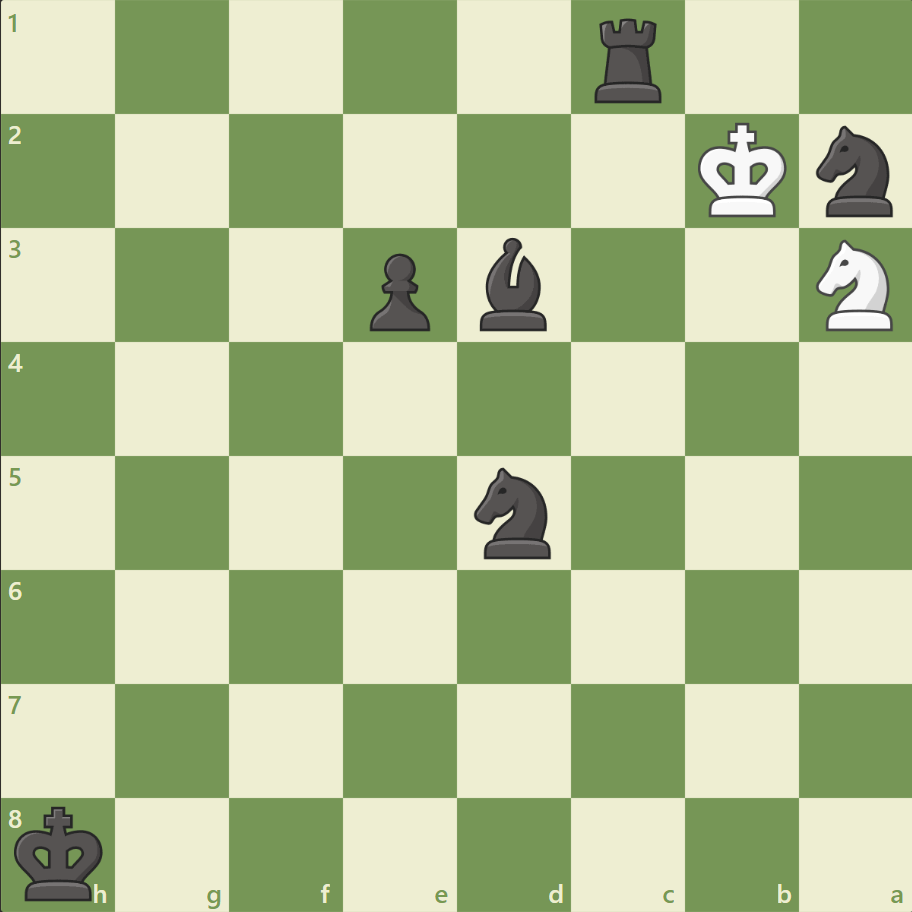K: (692, 117, 792, 225)
N: (806, 234, 903, 337)
b: (471, 233, 555, 336)
k: (11, 798, 111, 906)
n: (465, 461, 562, 564), (806, 121, 903, 223)
p: (361, 246, 435, 337)
r: (587, 12, 670, 109)
